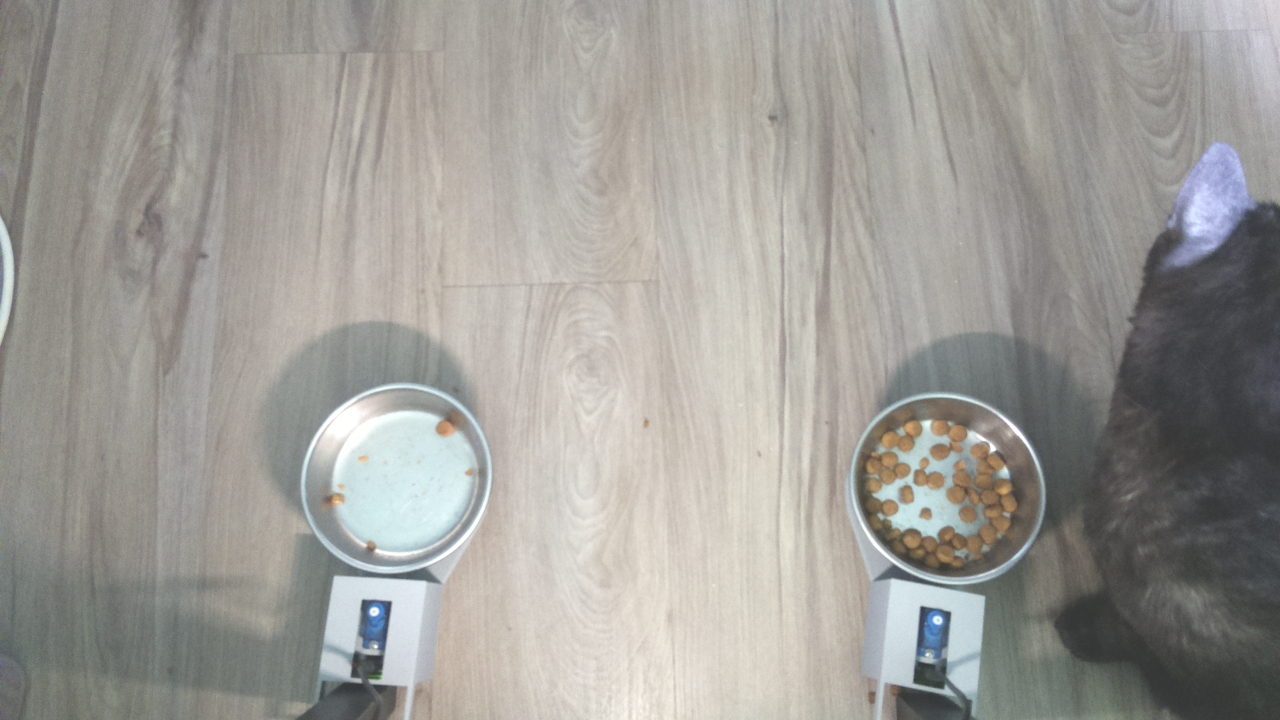open_bowl: (844, 390, 1063, 591), (297, 380, 498, 586)
saki: (1129, 137, 1280, 397)
